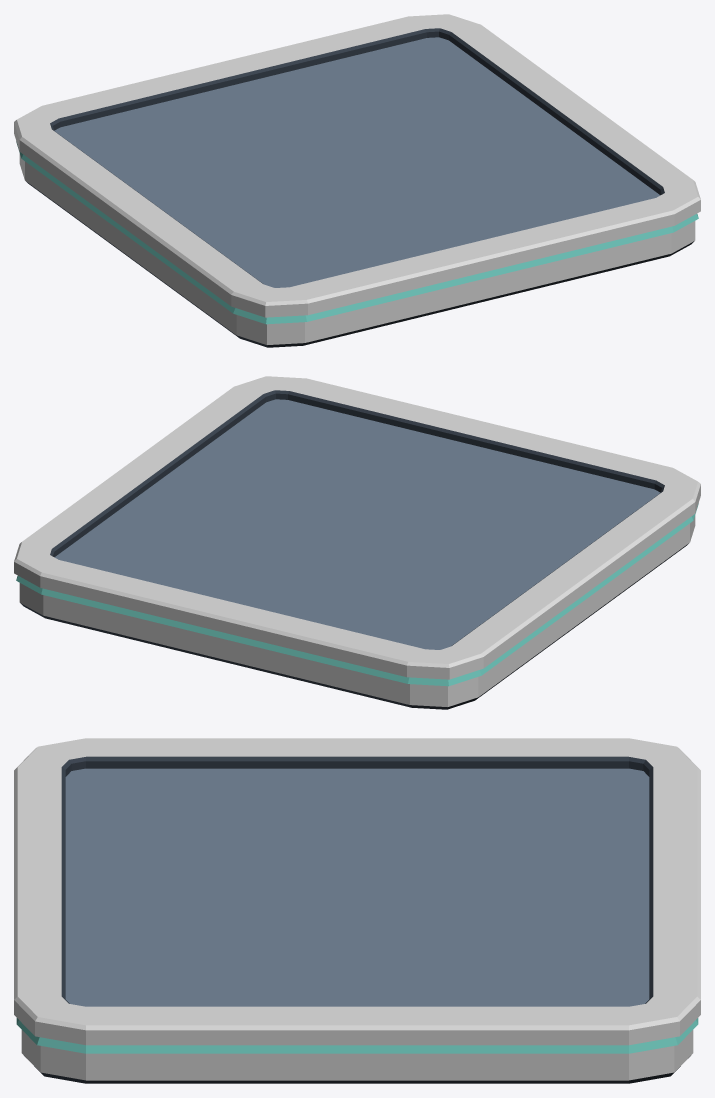
Rendered from plaza-water-basin-8c8185.glb.
The picture shows the model from 3 angles, top to bottom: view 1: azimuth 30°, elevation 25°; view 2: azimuth 150°, elevation 25°; view 3: azimuth 270°, elevation 25°; orthographic projection. The views are drawn at different scales.
Visible parts, largest first — view 1: water, basin; view 2: water, basin; view 3: water, basin.
Boxes of the visible parts, bbox=[...] form: water: bbox=[54, 37, 660, 287]; basin: bbox=[14, 14, 700, 347]; water: bbox=[54, 399, 660, 649]; basin: bbox=[14, 376, 700, 709]; water: bbox=[65, 768, 649, 1006]; basin: bbox=[14, 738, 700, 1083].
Bounding box in the file's own units: 4 × 0.4 × 4.
